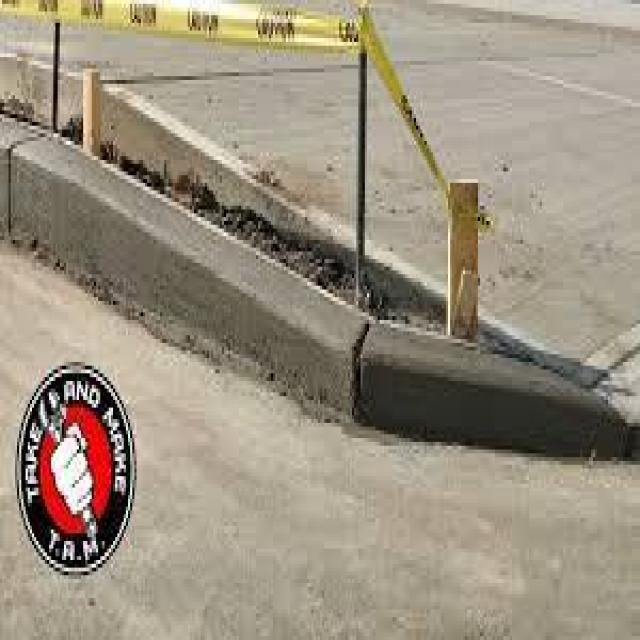curb: (8, 127, 375, 424), (353, 314, 637, 456)
